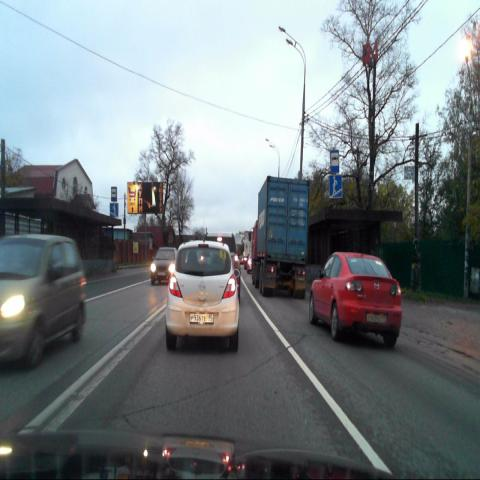6_6: (329, 175, 342, 198)
